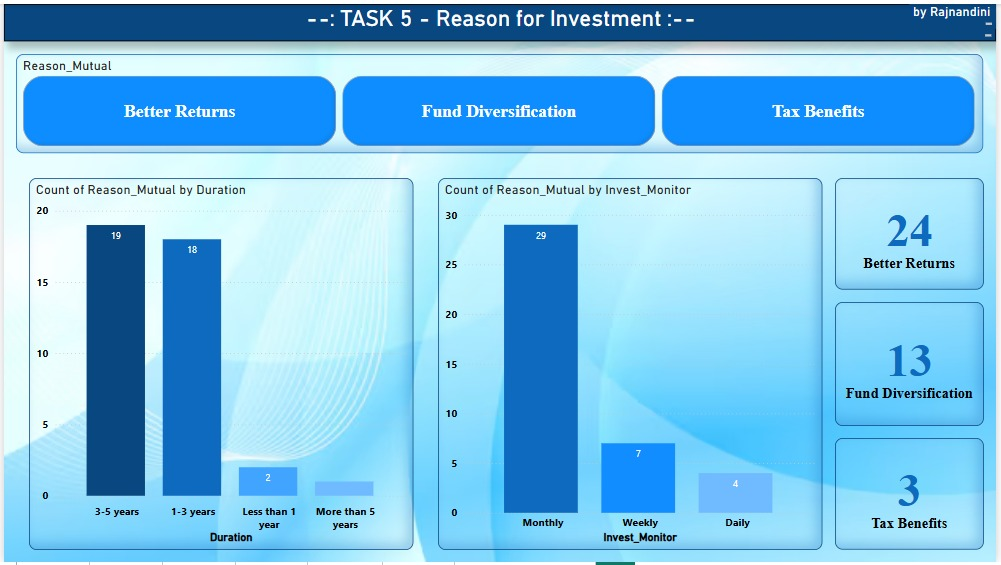

What the dashboard file says about the page in this screenshot:
{"tool":"powerbi","page":{"name":"Task 5","canvas":[1280,720],"ordinal":4},"visuals":[{"type":"textbox","title":"--: TASK 5 - Reason for Investment :--","box":[0,0,1280,48],"z":0},{"type":"card","fields":{"Values":["Data_set 2.Better Returns"]},"box":[1072,224,192,144],"z":1000},{"type":"clusteredColumnChart","fields":{"Category":["Data_set 2.Duration"],"Y":["CountNonNull(Data_set 2.Reason_Mutual)"]},"box":[32,224,496,480],"z":2000},{"type":"advancedSlicerVisual","fields":{"Values":["Data_set 2.Reason_Mutual"]},"box":[16,64,1248,128],"z":3000},{"type":"textbox","title":"by Rajnandini","box":[1168,0,112,32],"z":4000},{"type":"clusteredColumnChart","fields":{"Category":["Data_set 2.Invest_Monitor"],"Y":["CountNonNull(Data_set 2.Reason_Mutual)"]},"box":[560,224,496,480],"z":5000},{"type":"card","fields":{"Values":["Data_set 2.Fund Diversification"]},"box":[1072,384,192,160],"z":6000},{"type":"card","fields":{"Values":["Data_set 2.Tax Benefits"]},"box":[1072,560,192,144],"z":7000}]}

Visuals, with their boxes in screenshot pixels (x1, y1, x2, y2), scaled from the page's 1280x720 canvas onto the 1001x565 screenshot:
"--: TASK 5 - Reason for Investment :--" textbox: (0,0,1000,38)
card - Data_set 2.Better Returns: (838,176,988,289)
clusteredColumnChart - Data_set 2.Duration x CountNonNull(Data_set 2.Reason_Mutual): (25,176,413,552)
advancedSlicerVisual - Data_set 2.Reason_Mutual: (13,50,988,151)
"by Rajnandini" textbox: (913,0,1000,25)
clusteredColumnChart - Data_set 2.Invest_Monitor x CountNonNull(Data_set 2.Reason_Mutual): (438,176,826,552)
card - Data_set 2.Fund Diversification: (838,301,988,427)
card - Data_set 2.Tax Benefits: (838,439,988,552)
